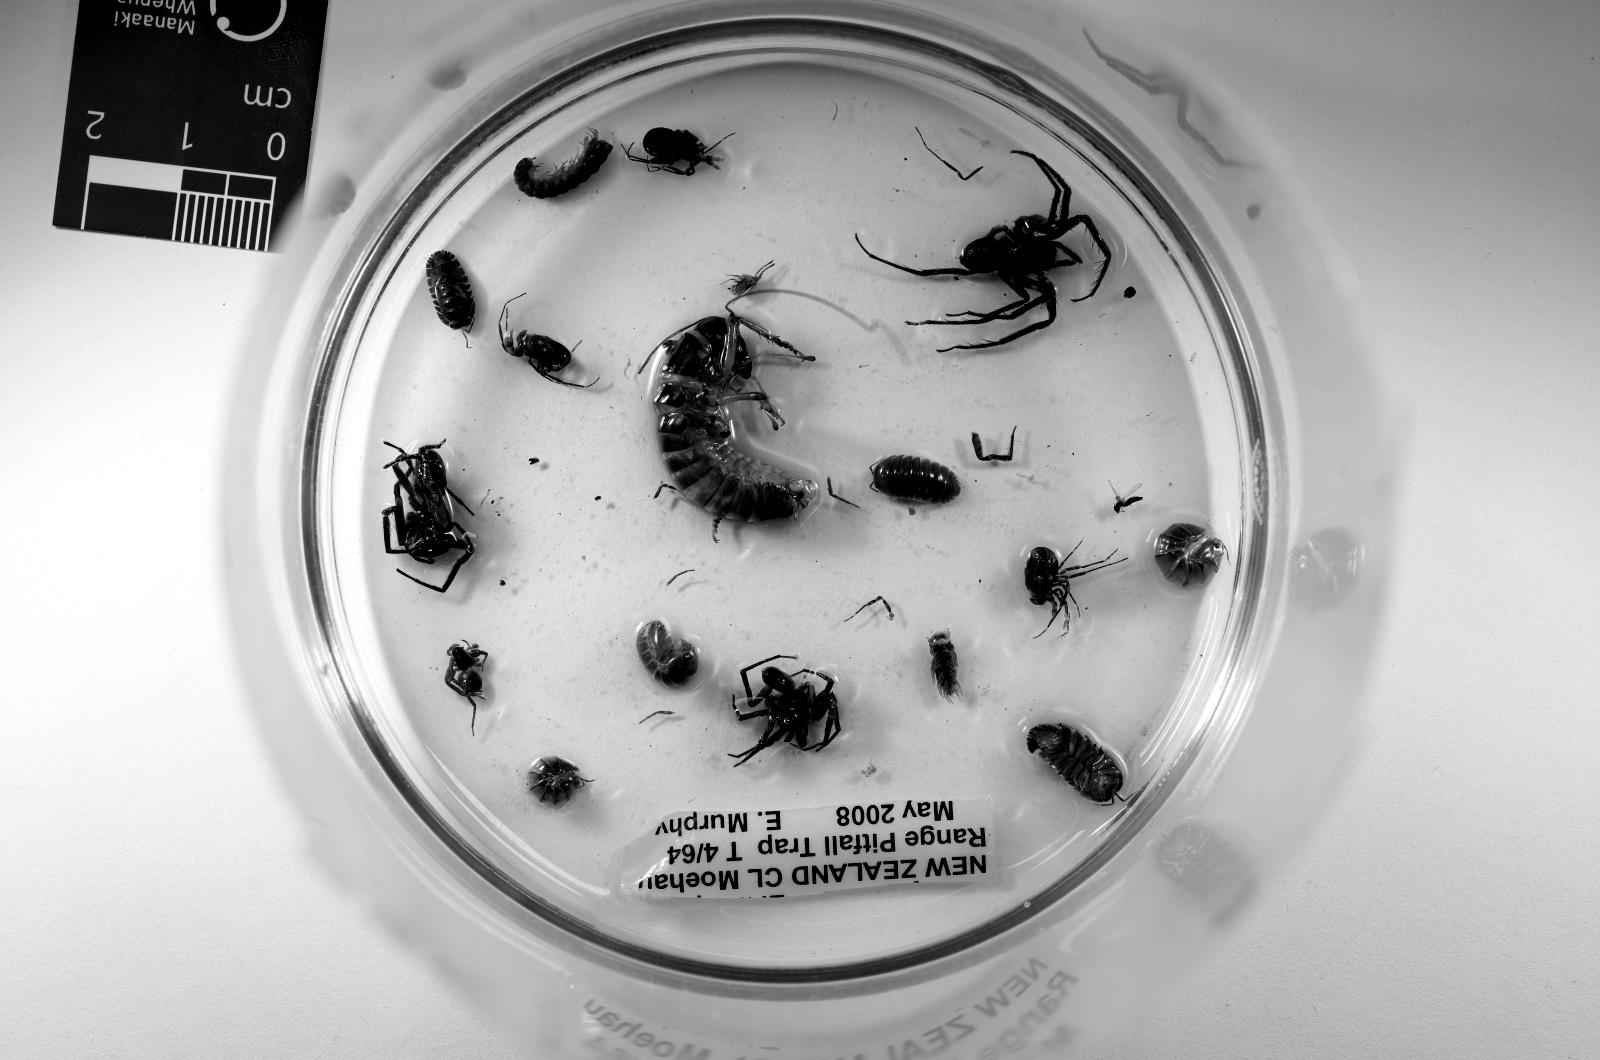araneae: (862, 149, 1113, 348), (381, 444, 475, 593), (731, 658, 841, 767), (443, 642, 487, 733)
diptera: (1103, 474, 1144, 512)
isopoda: (1028, 724, 1122, 804), (1157, 522, 1225, 587), (872, 457, 959, 503), (637, 621, 697, 686), (428, 252, 475, 332), (525, 755, 590, 807)
opiliones: (1025, 547, 1122, 634), (497, 304, 594, 388), (626, 128, 721, 177)
orthoptera: (653, 310, 816, 537)
